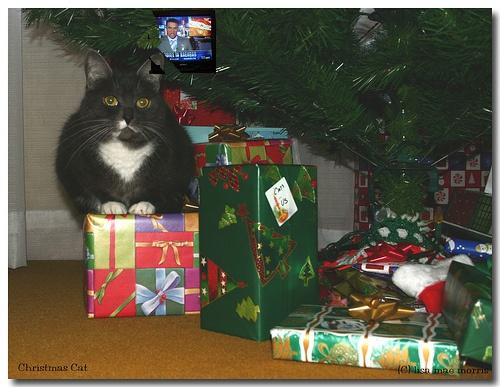tampered: (149, 10, 216, 74)
